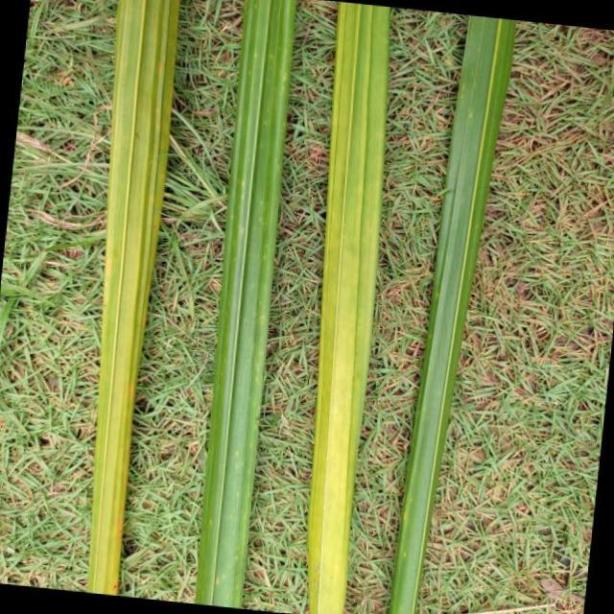nitrogen: (396, 0, 516, 614), (194, 0, 292, 614), (84, 0, 180, 614), (307, 0, 390, 614)
